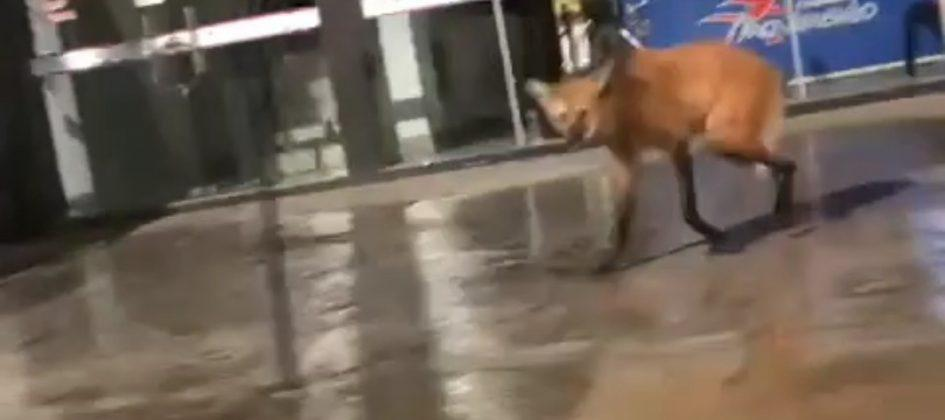LoboGuara: (519, 41, 817, 265)
